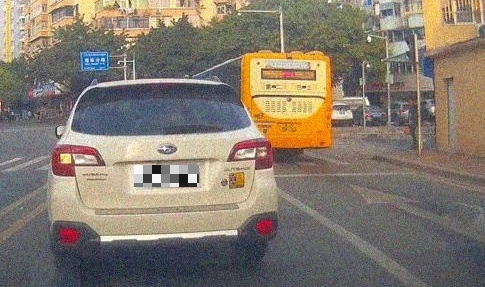L_light: (52, 144, 106, 177)
R_light: (226, 137, 274, 171)
T_light: (143, 84, 170, 89)
day-left: (47, 78, 279, 273)
plate_1: (134, 165, 199, 187)
